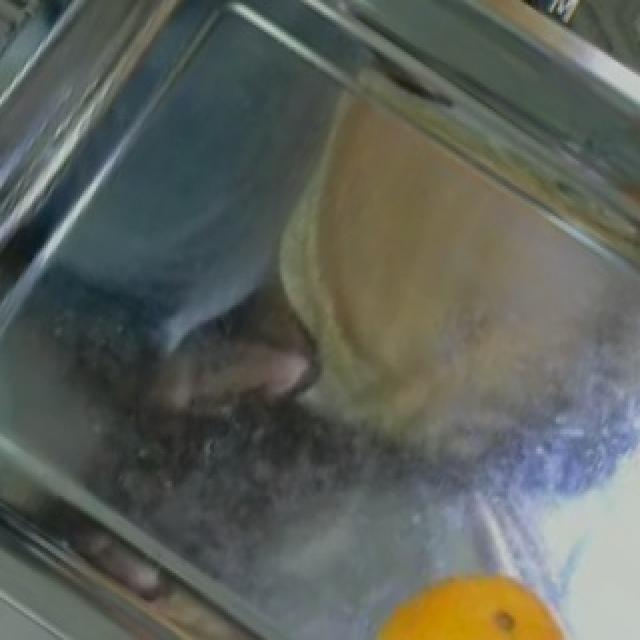Fruit: (358, 553, 582, 640)
